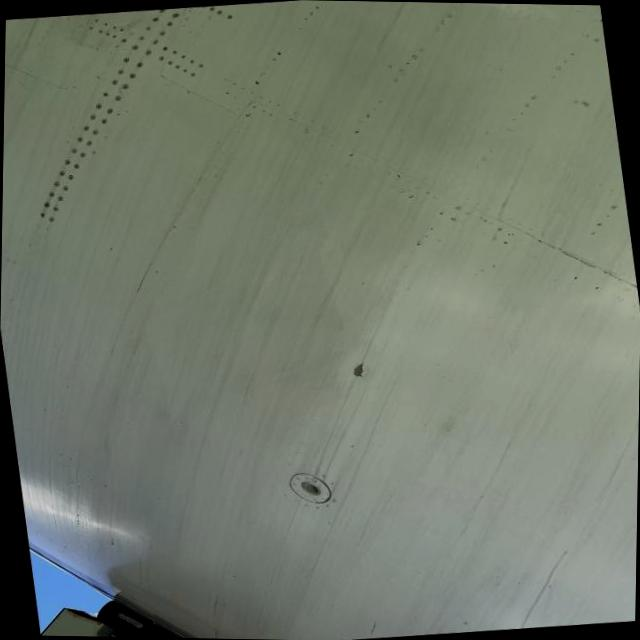crack: (126, 272, 168, 296), (352, 354, 367, 380)
